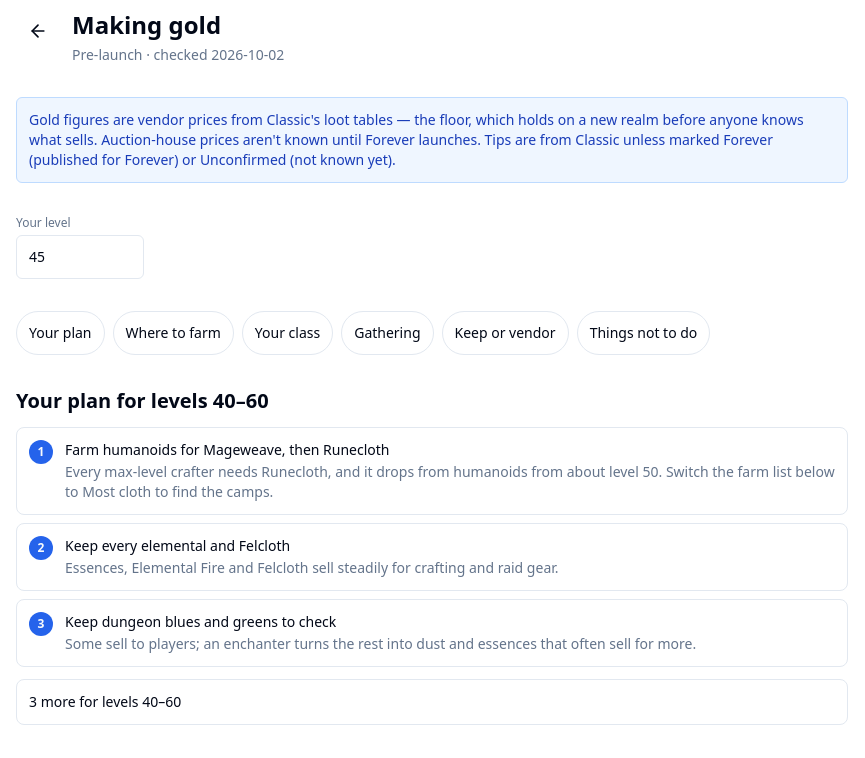
Test: Making gold page › uses the saved level for the plan and the farm list, and saves a new one
Check: the heading "Your plan for levels 40–60" is shown, box [16, 387, 269, 414]
Replace the text in the number field labelled "Your level" with "25" at (80, 257), box [16, 235, 144, 279]
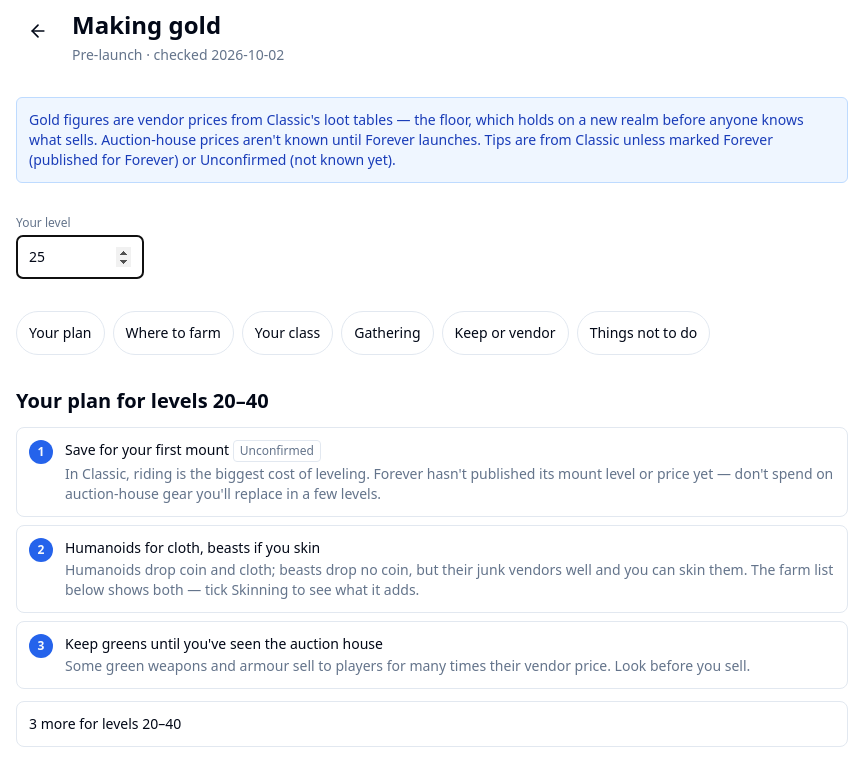
Check: the heading "Your plan for levels 20–40" is shown, box [16, 387, 269, 414]
